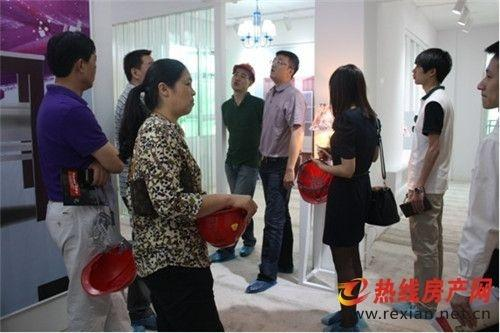NoHelmet: (143, 58, 195, 118), (47, 31, 98, 89), (409, 47, 453, 88), (269, 49, 301, 83)
NoVest: (409, 92, 455, 191), (218, 95, 265, 164)
